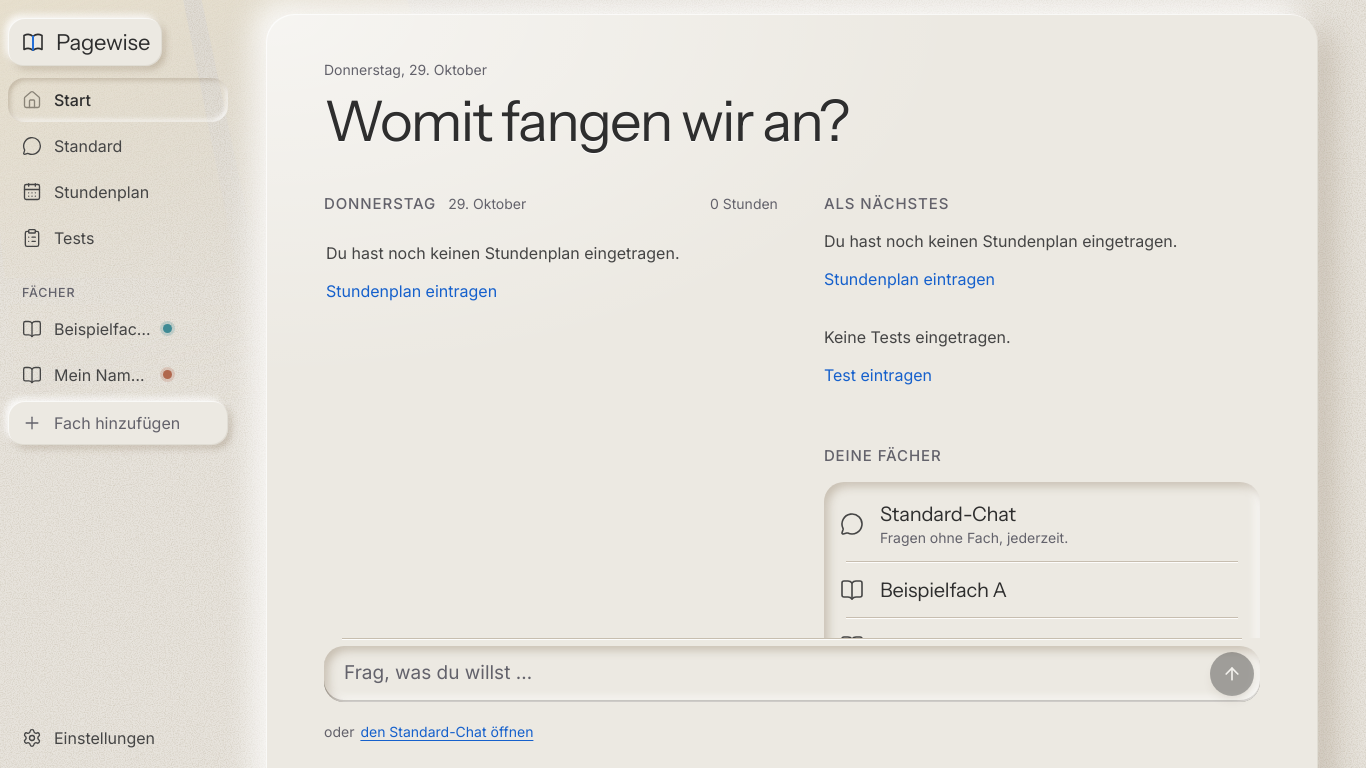
Fächer aus dem Katalog anlegen › markiert vorhandene Fächer als „Schon angelegt“, auch wenn sie umbenannt wurden
Click the button "Fach hinzufügen": (118, 423) [8, 401, 228, 445]
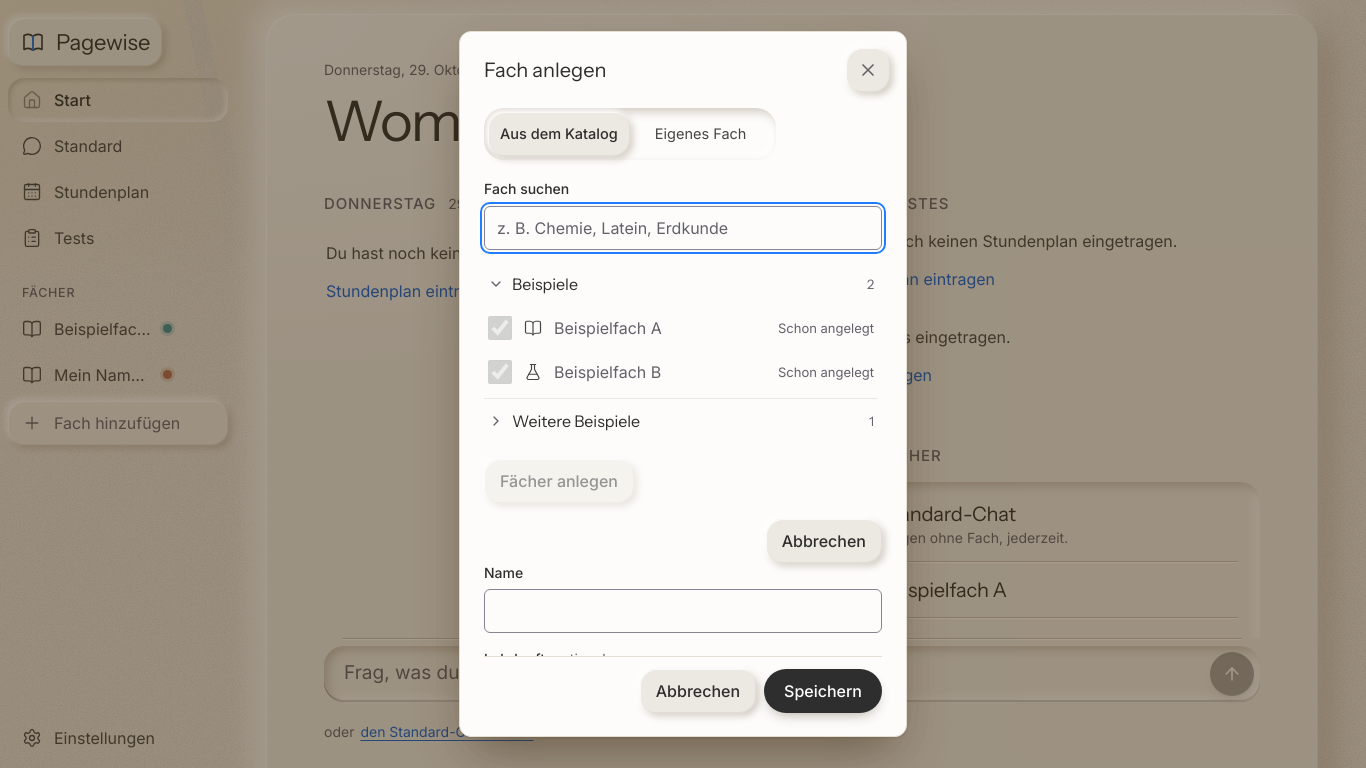
expect the search field labelled "Fach suchen" is shown: met, box [484, 206, 882, 250]
expect the checkbox labelled "Beispielfach A Schon angelegt" is disabled: met, box [488, 316, 512, 340]
expect the checkbox labelled "Beispielfach A Schon angelegt" is checked: met, box [488, 316, 512, 340]
